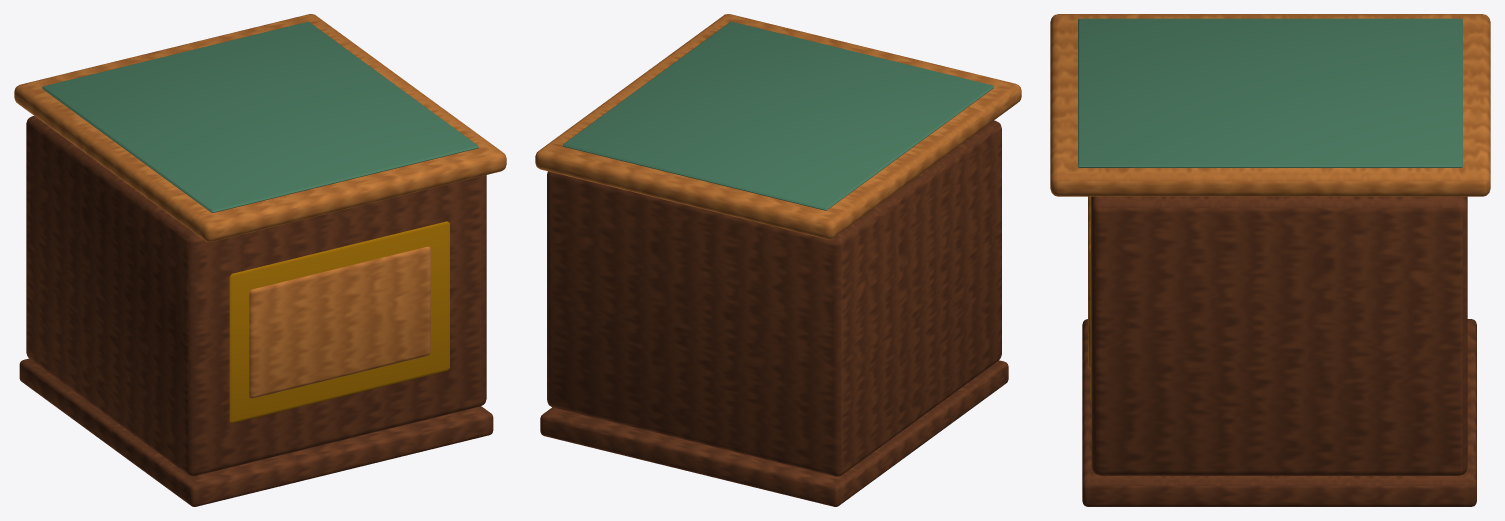
File: counter_straight.glb
The picture shows the model from 3 angles, left to right: view 1: azimuth 30°, elevation 25°; view 2: azimuth 150°, elevation 25°; view 3: azimuth 270°, elevation 25°; orthographic projection. The views are drawn at different scales.
Visible parts, largest first — view 1: body, inlay, inner, top, plinth, inset; view 2: body, inlay, top, plinth; view 3: body, inlay, top, plinth, inner.
Boxes of the visible parts, left/top/right/bottom form: body: left=26, top=116, right=486, bottom=476; inlay: left=42, top=22, right=478, bottom=212; inner: left=249, top=246, right=430, bottom=398; top: left=14, top=14, right=506, bottom=241; plinth: left=19, top=358, right=493, bottom=506; inset: left=229, top=221, right=449, bottom=423; body: left=547, top=120, right=1001, bottom=476; inlay: left=562, top=21, right=994, bottom=210; top: left=535, top=14, right=1021, bottom=239; plinth: left=540, top=360, right=1008, bottom=506; body: left=1091, top=196, right=1467, bottom=475; inlay: left=1078, top=18, right=1462, bottom=167; top: left=1050, top=14, right=1490, bottom=196; plinth: left=1082, top=319, right=1476, bottom=506; inner: left=1088, top=196, right=1090, bottom=368.
Size of the model in its own units: 0.43 by 0.4015 by 0.48.
4 materials, 2 textured.
